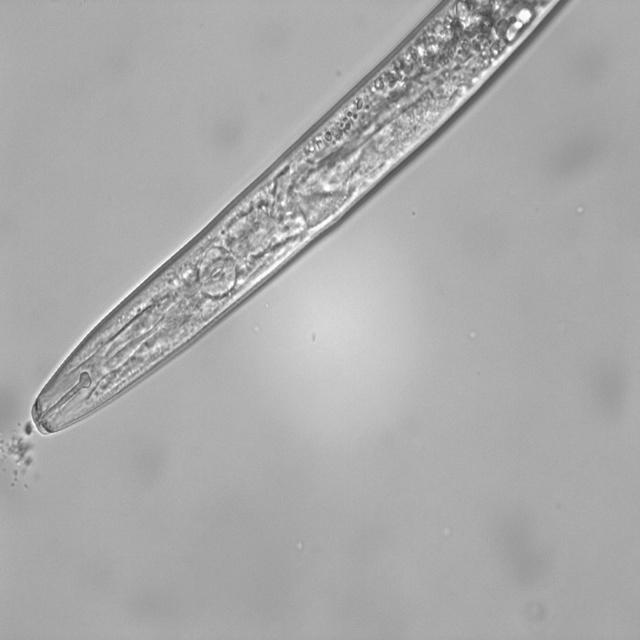Pratylenchus: (31, 0, 602, 442)
